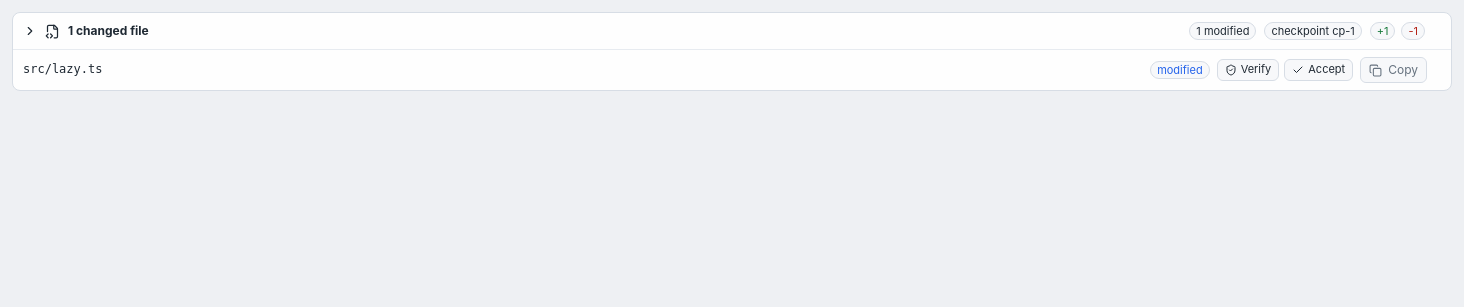
Test case: CurrentTurnChangeCard › renders checkpoint-backed changed files and lazy-loads per-file diffs
Expected: the element named "Changed files" is shown, [12,12,1452,91]
Expected: the text "src/lazy.ts" is shown, [23,62,102,76]
Click the button "1 changed file 1 modified checkpoint cp-1 +1 -1".
click(102, 31)  # box [13,13,1451,49]
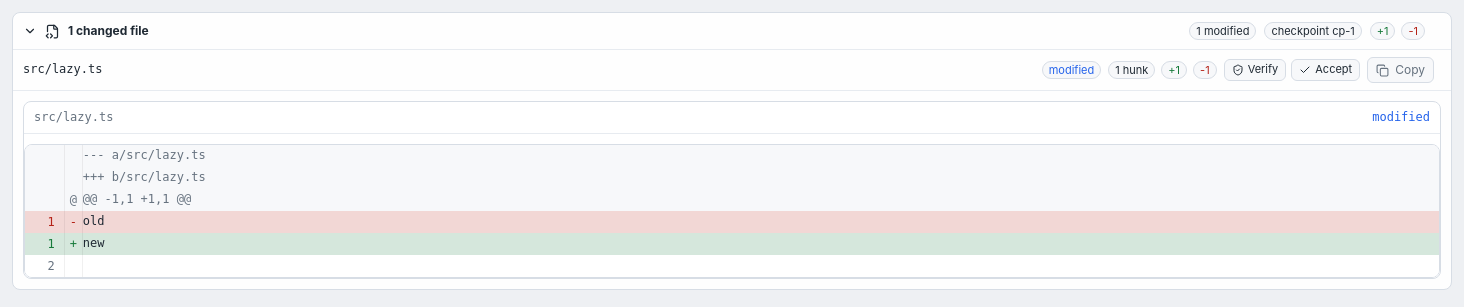
Expected: the text "old" is shown, [83,214,104,228]
Expected: the text "new" is shown, [83,236,104,250]
